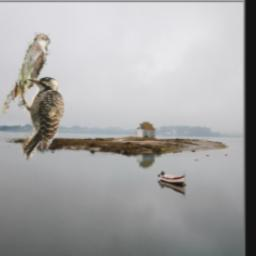Cuckoo: (1, 34, 50, 115)
Woodpecker: (17, 74, 65, 161)
